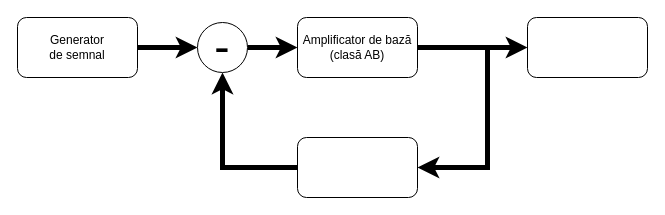
Some shapes in this 665 by 215 pixel diagram are drawn without their labels. The centre of each missing label's shape, as x and y in pixels:
"Rețea de reacție negativă" goes at [357,167].
"Sarcina (RL)" goes at [587,47].
